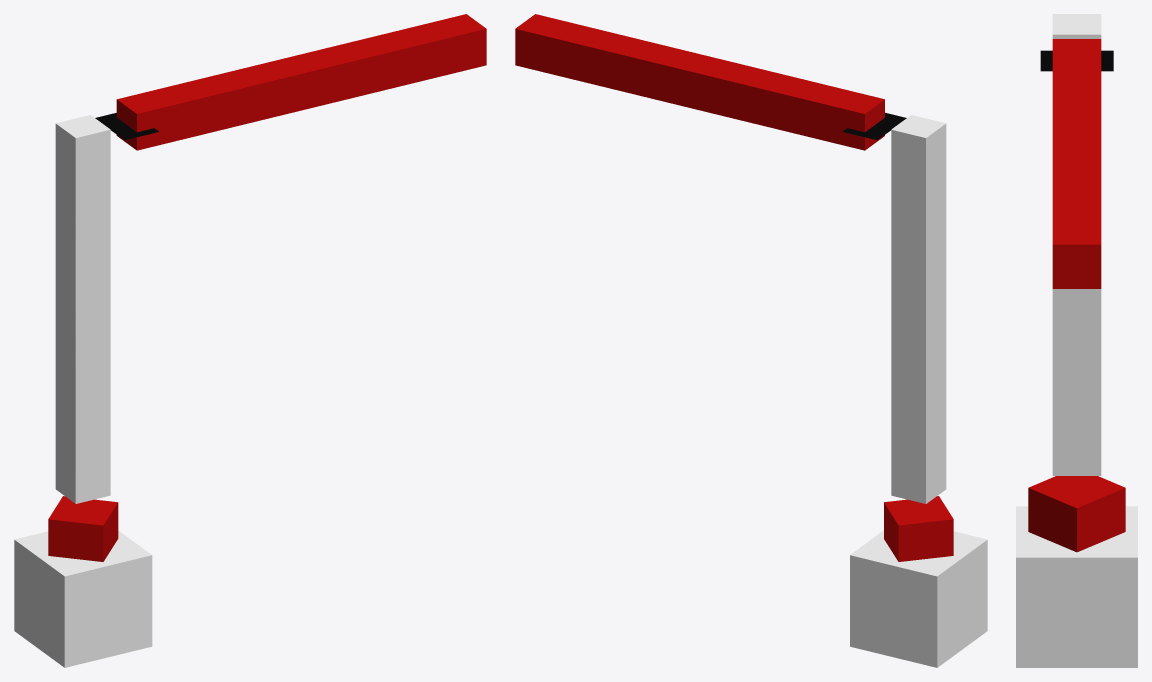
File: finder_arm.backup.dae
3 views of the same model, side by side, from view 1: azimuth 30°, elevation 25°; view 2: azimuth 150°, elevation 25°; view 3: azimuth 270°, elevation 25° (orthographic). The views are drawn at different scales.
Parts seen in each view (by area): view 1: shoulder_pitch_link, elbow_pitch_link, base_link, shoulder_pan_link; view 2: shoulder_pitch_link, elbow_pitch_link, base_link, shoulder_pan_link; view 3: base_link, elbow_pitch_link, shoulder_pitch_link, shoulder_pan_link, elbow_roll_link.
Boxes of the visible parts, x1,y1,x2,y2 form: shoulder_pitch_link: (55, 115, 110, 503); elbow_pitch_link: (116, 14, 486, 150); base_link: (14, 530, 152, 667); shoulder_pan_link: (48, 496, 118, 561); shoulder_pitch_link: (891, 115, 946, 503); elbow_pitch_link: (515, 14, 884, 150); base_link: (850, 530, 987, 667); shoulder_pan_link: (884, 496, 953, 561); base_link: (1016, 506, 1137, 667); elbow_pitch_link: (1052, 39, 1101, 288); shoulder_pitch_link: (1052, 14, 1101, 475); shoulder_pan_link: (1028, 476, 1125, 552); elbow_roll_link: (1040, 50, 1113, 71).
Size of what is drawn, in the model's own units: 0.5 by 0.1 by 0.57.
